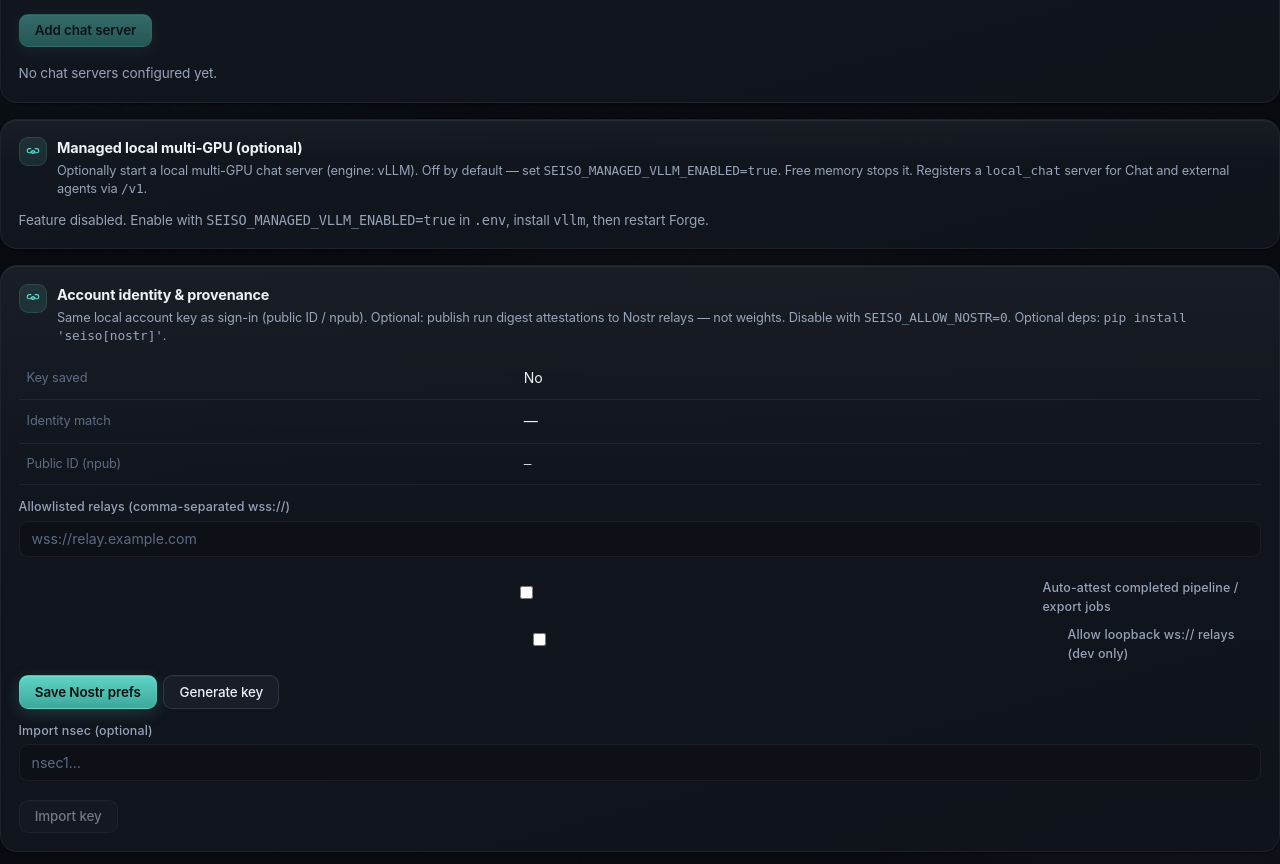
Scenario: IntegrationsPage Nostr keygen › shows rotated nsec in a dedicated panel, not the status toast
The image size is (1280, 864).
(page scrolled)
Click the button "Generate key".
click(221, 692)  # box [163,675,279,709]
(page scrolled)
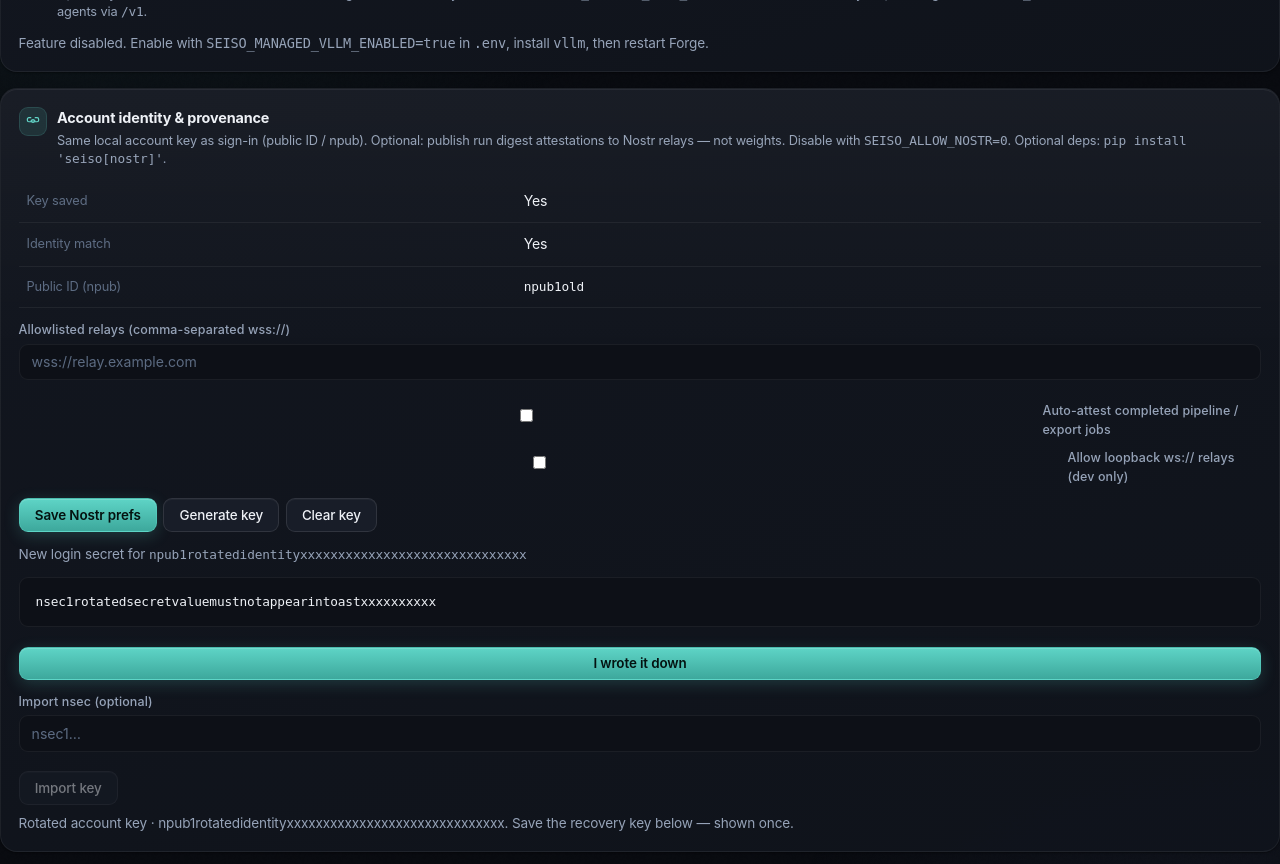
Check: the element with test id "nostr-status-msg" does not show "nsec1"
Check: the element with test id "nostr-rotated-key" shows "nsec1rotatedsecretvaluemustnotappearintoastxxxxxxxxxx", box [36,594,436,609]
Check: the text with test id "nostr-status-msg" shows "Save the recovery key below", box [19,814,794,830]
